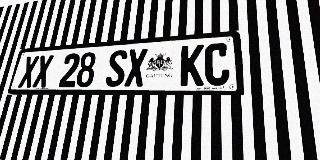2: (58, 53, 81, 87)
8: (75, 52, 98, 87)
C: (204, 43, 230, 86)
K: (180, 44, 204, 86)
S: (105, 50, 128, 87)
X: (124, 48, 148, 87), (32, 55, 54, 88), (18, 56, 39, 88)
